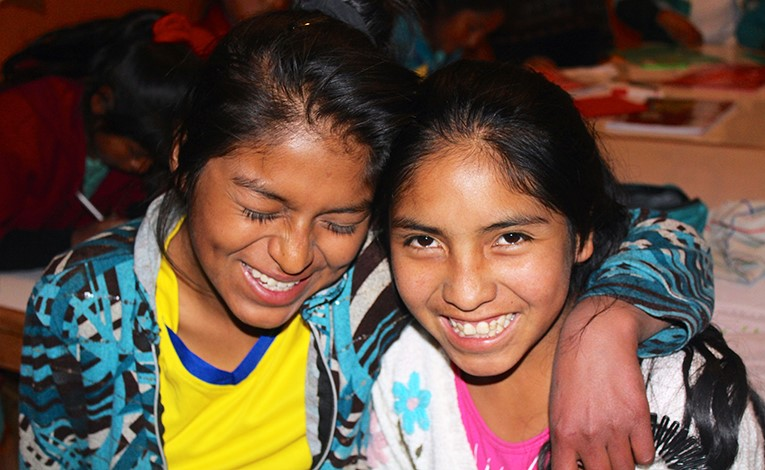face_no_mask: (167, 8, 413, 328), (388, 63, 604, 380)
